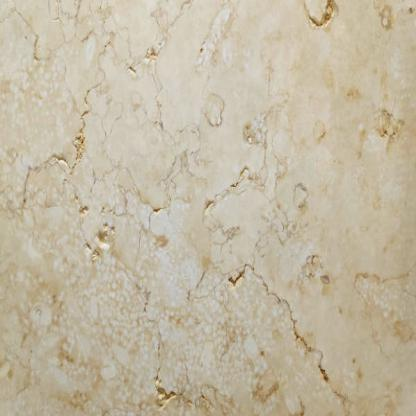Metamorphic_Marble: (2, 0, 415, 414)
